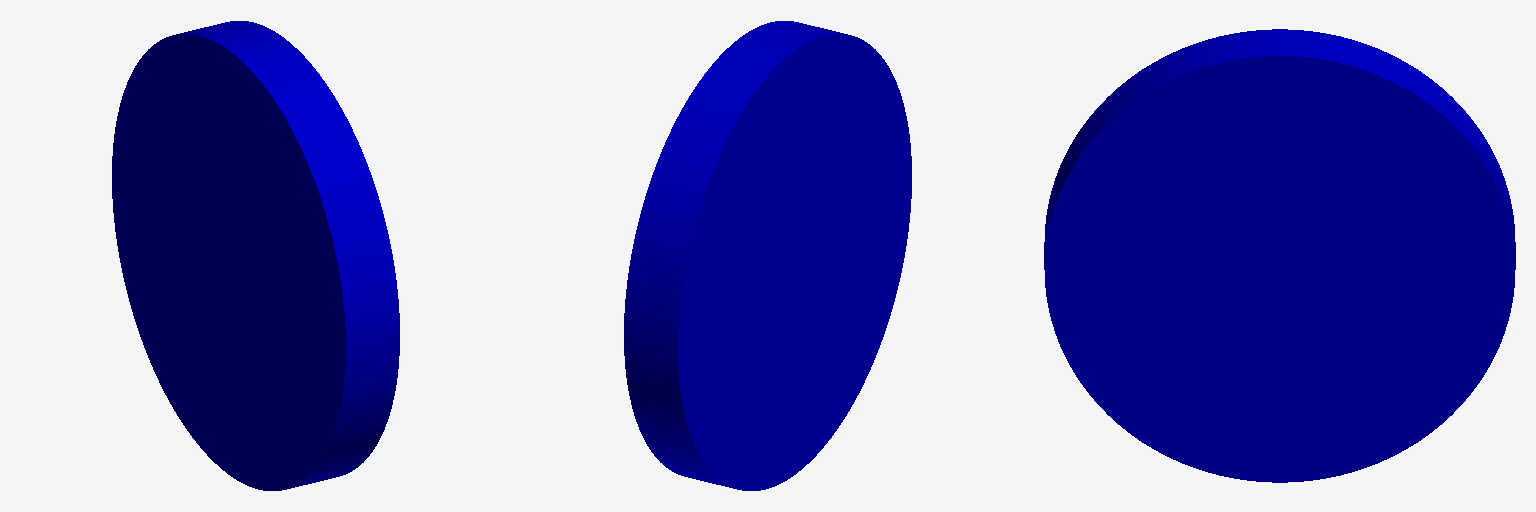
The robot description file, URDF, robot "denge2":
<?xml version="1.0"?>
<robot name="denge2">

<material name="blue">
    <color rgba="0 0 0.8 1"/>
  </material>
<material name="orange">
    <color rgba="0.972 0.746 0.23 1"/>
  </material>
  <material name="black">
    <color rgba="0 0 0 1"/>
  </material>
  <material name="white">
    <color rgba="1 1 1 1"/>
  </material>

  <link name="tekerlek_link">
    <visual>
      <geometry>
        <mesh filename="tekerlek_.stl"/>
      </geometry>
        <origin rpy="0 0 0" xyz="0 0 1.5"/>
        <material name="blue"/>
    </visual>
    <collision>
      <geometry>
        <mesh filename="tekerlek_.stl"/>
      </geometry>
        <origin rpy="0 0 0" xyz="0 0 1.5"/>
    </collision>
    <inertial>
      <mass value="10"/>
      <inertia ixx="1e-3" ixy="0.0" ixz="0.0" iyy="1e-3" iyz="0.0" izz="1e-3"/>
    </inertial>
  </link>

</robot>

--- Render facts (derived) ---
3 views of the same robot in one strip: view 1: azimuth 30°, elevation 25°; view 2: azimuth 150°, elevation 25°; view 3: azimuth 270°, elevation 25° (orthographic).
Model denge2 with 1 links and 0 joints (none), rooted at tekerlek_link, posed all joints at 0.
Links seen in each view (by area): view 1: tekerlek_link; view 2: tekerlek_link; view 3: tekerlek_link.
Link boxes in pixels (bbox=[...]): tekerlek_link: bbox=[112, 21, 399, 490]; tekerlek_link: bbox=[624, 21, 911, 490]; tekerlek_link: bbox=[1044, 29, 1515, 482].
Size in the robot's own frame: 0.4 by 3 by 3 metres.
Meshes: 1 distinct files referenced, 1 mesh visuals loaded (1 binary STL).